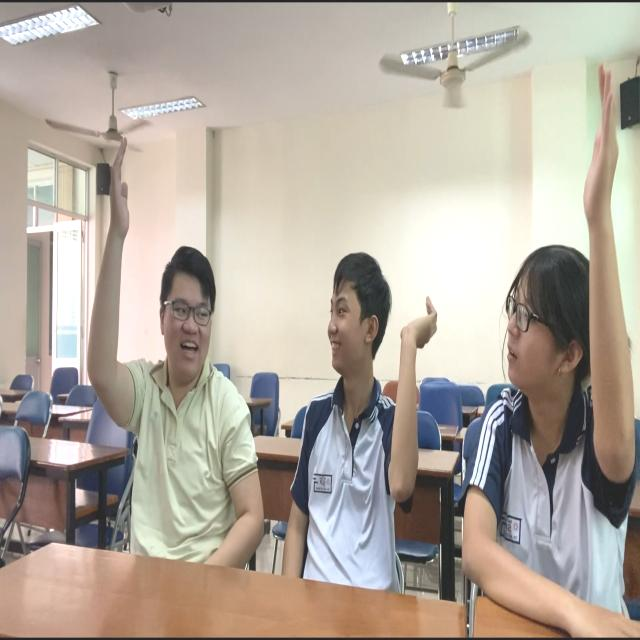raise_hand: (455, 64, 640, 640), (78, 126, 274, 582)
